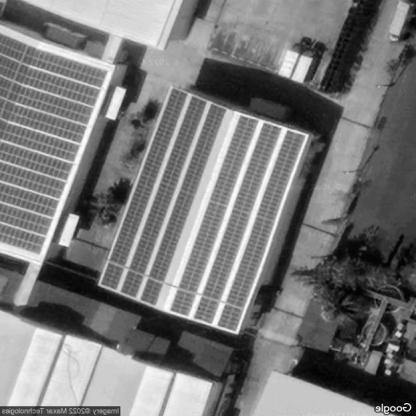solar-pv-panel: (0, 32, 109, 256), (192, 122, 281, 325), (217, 132, 306, 331), (100, 88, 187, 290), (171, 115, 257, 316), (139, 104, 225, 305), (122, 97, 206, 297)
